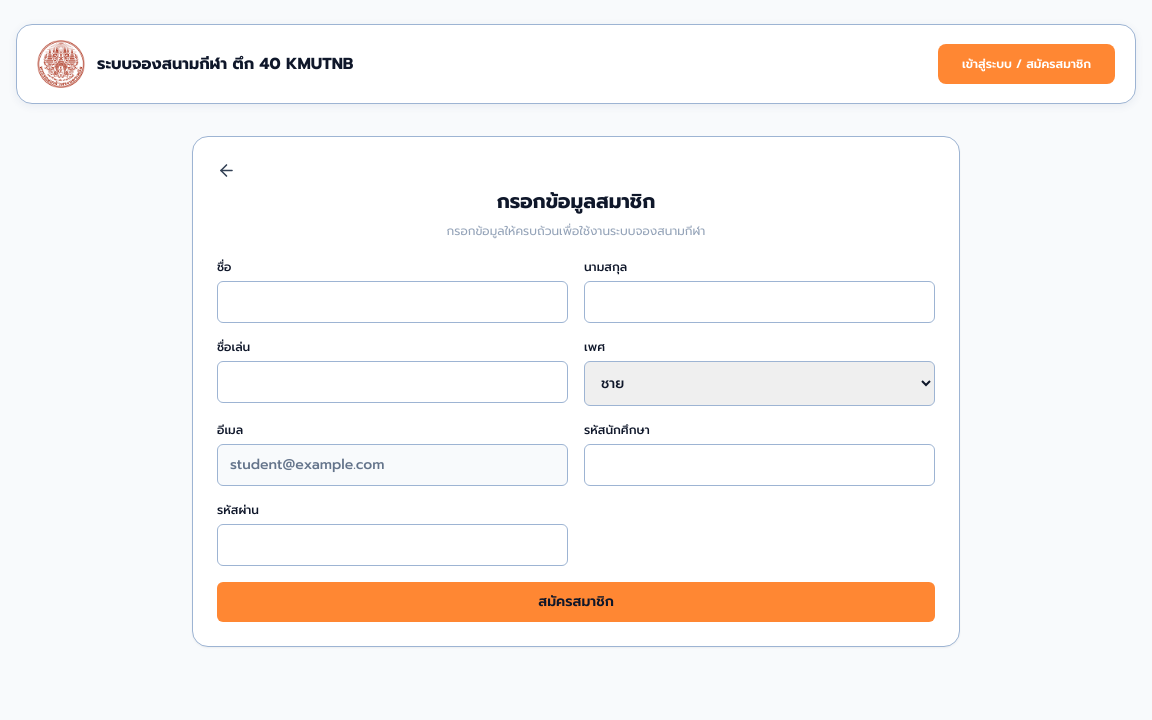
Test: RegistrationDetails › blocks registration when verification proof is missing
Type "First" into the field labelled "ชื่อ" at (392, 302), box [217,281,568,323]
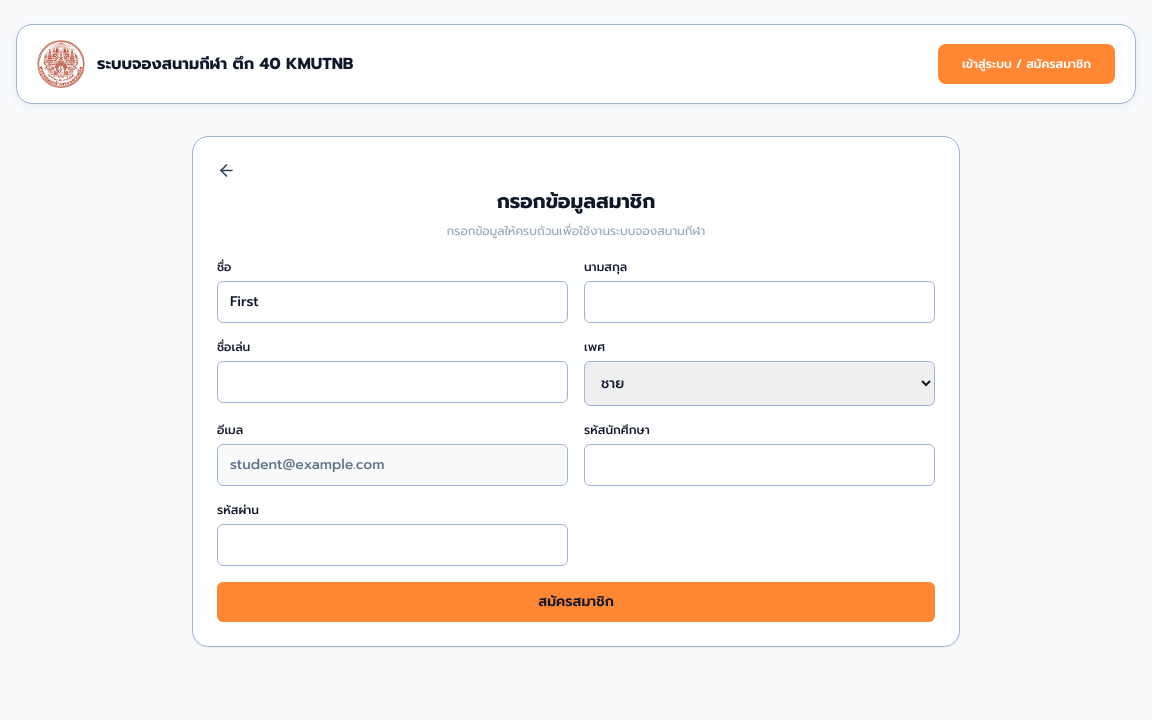
Type "Last" into the field labelled "นามสกุล" at (760, 302), box [584,281,935,323]
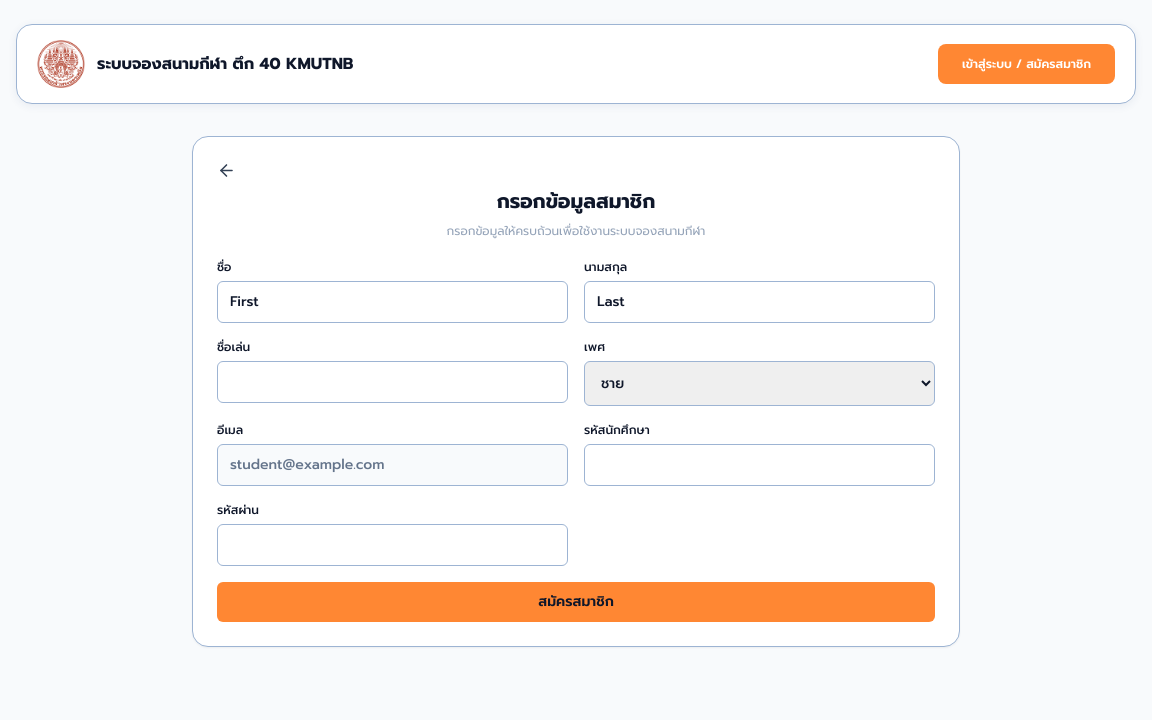
Type "1234567890123" into the field labelled "รหัสนักศึกษา" at (760, 465), box [584,444,935,486]
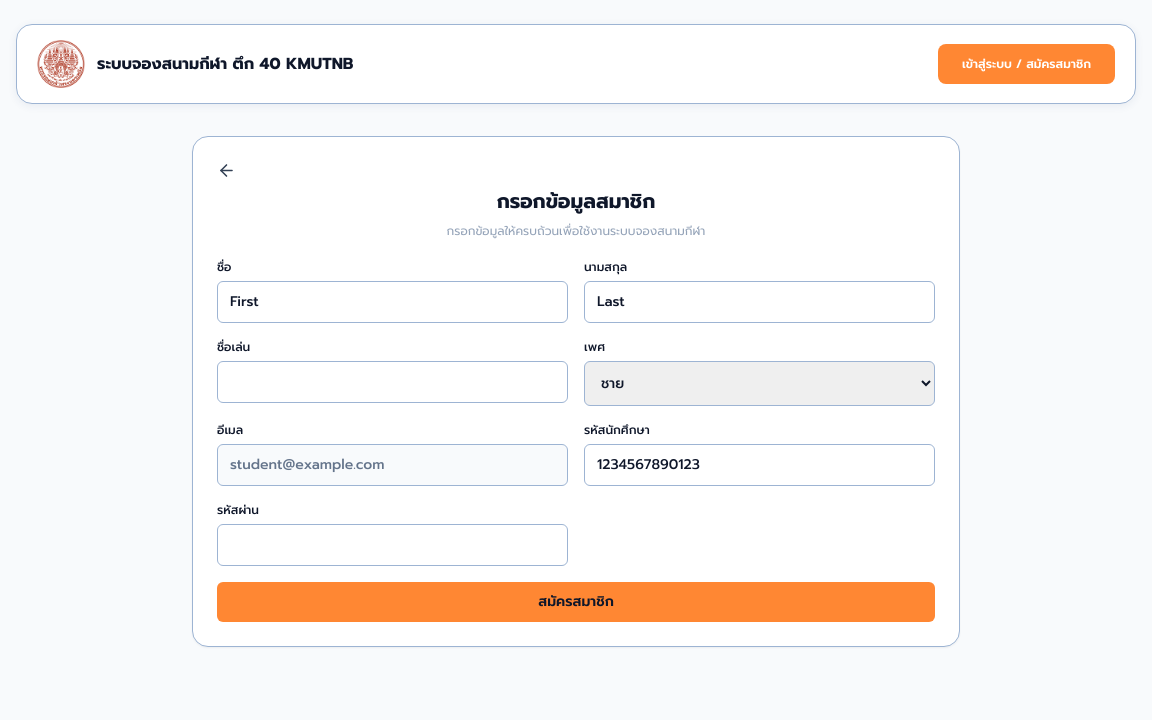
Type "Password123" into the password field labelled "รหัสผ่าน" at (392, 545), box [217,524,568,566]
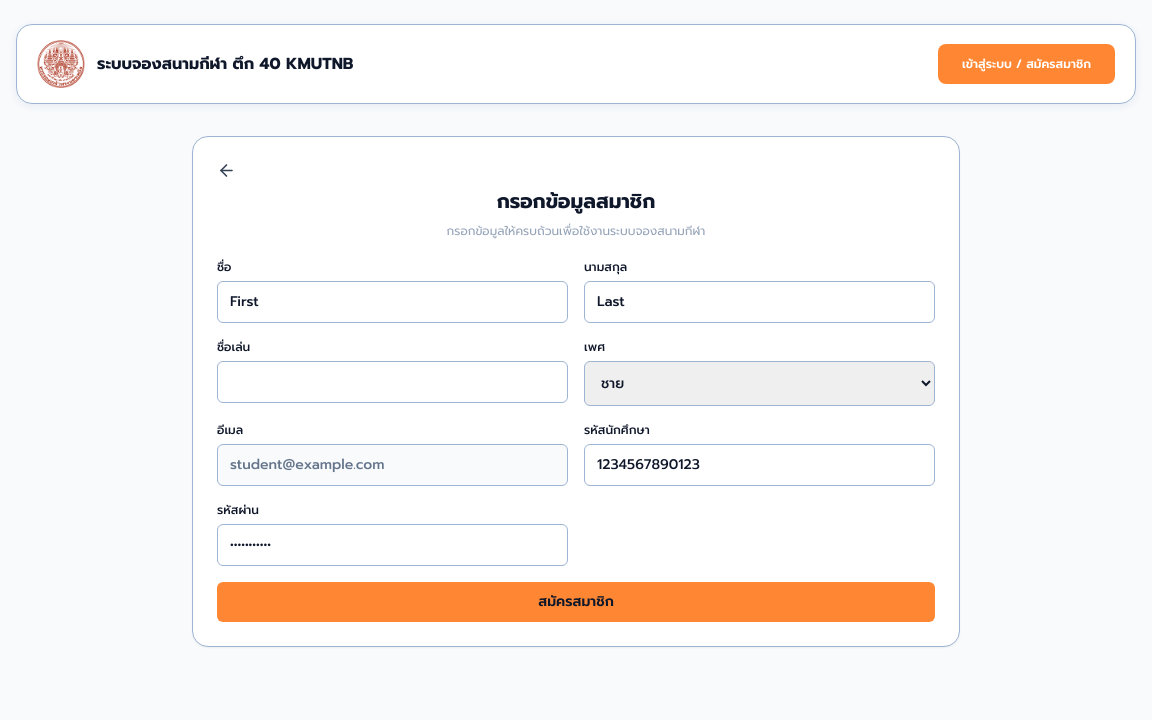
Click the button "สมัครสมาชิก" at (576, 602), box [217,582,935,622]
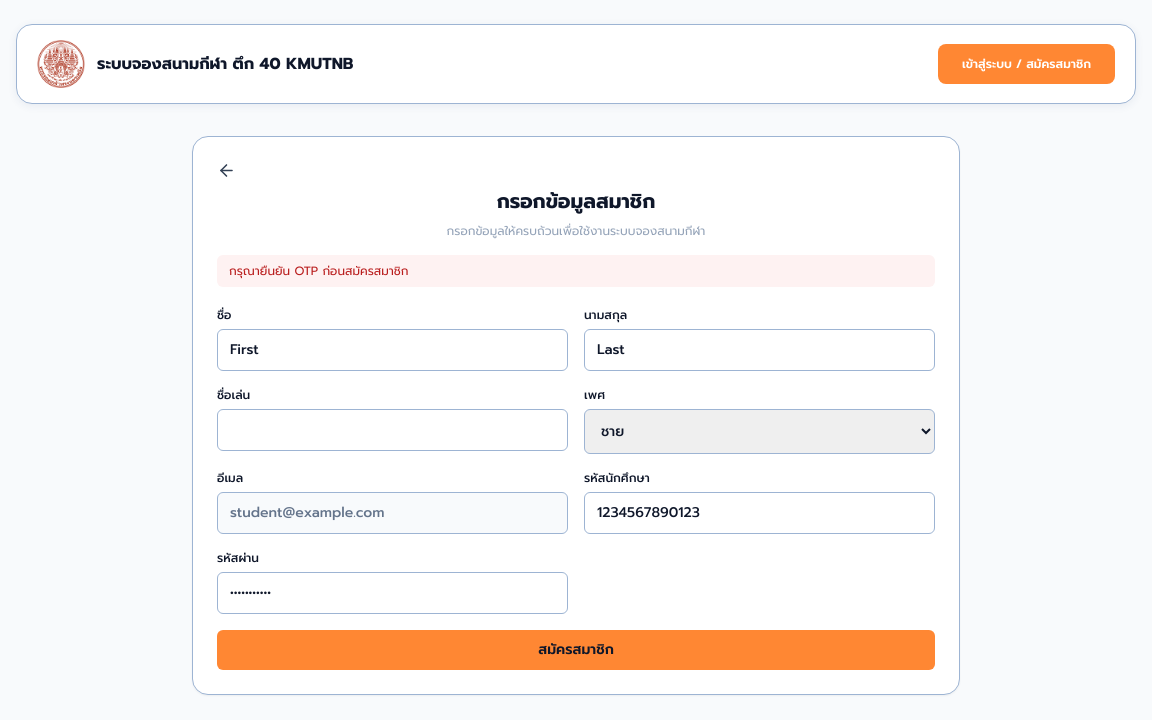
Check: the message shows "กรุณายืนยัน OTP", box [229,262,408,280]
